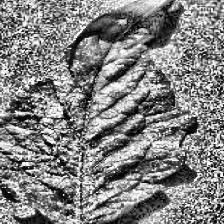spider mites: (0, 0, 195, 224)
